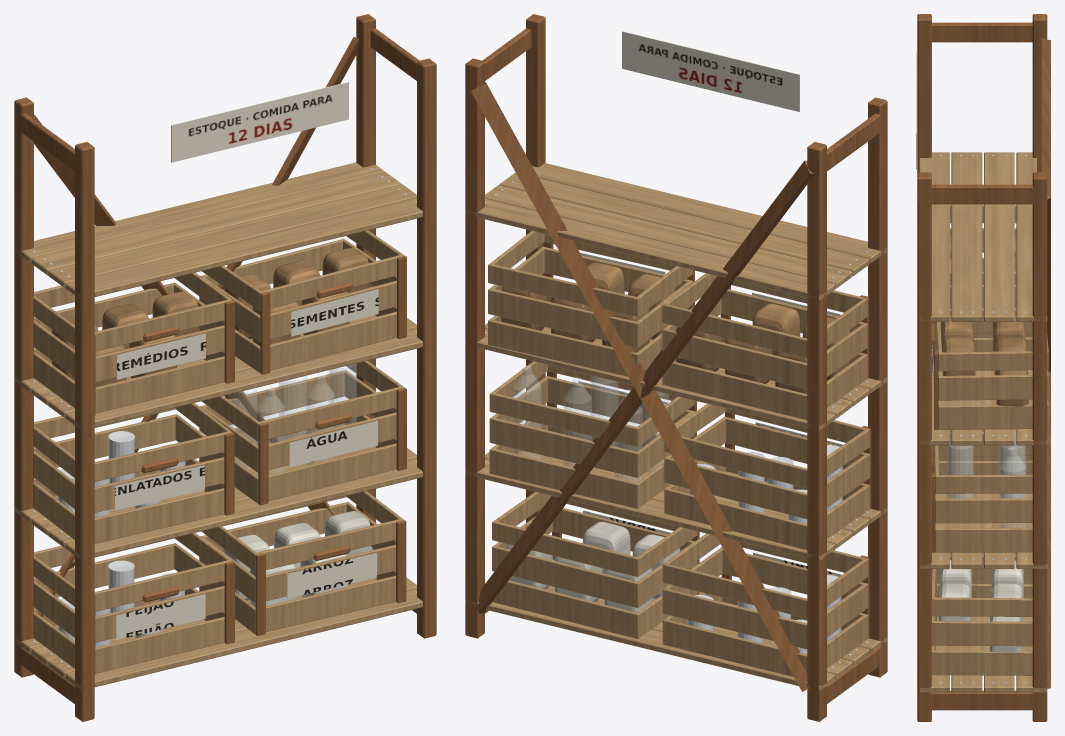
File: despensa.glb
The picture shows the model from 3 angles, left to right: view 1: azimuth 30°, elevation 25°; view 2: azimuth 150°, elevation 25°; view 3: azimuth 270°, elevation 25°; orthographic projection. The views are drawn at different scales.
Visible parts, largest first — view 1: despensa_madeira_crua, despensa_madeira, despensa_placa_estoque, despensa_papelao, despensa_pet, despensa_colchao, despensa_lata, despensa_etiq_desp_0, despensa_etiq_desp_1, despensa_etiq_desp_2, despensa_etiq_desp_4, despensa_etiq_desp_3 (+1 smaller); view 2: despensa_madeira_crua, despensa_madeira, despensa_placa_estoque, despensa_papelao, despensa_pet, despensa_colchao, despensa_lata; view 3: despensa_madeira_crua, despensa_madeira, despensa_papelao, despensa_colchao, despensa_pet.
Boxes of the visible parts, x1,y1,x2,y2 form: despensa_madeira_crua: (14, 162, 422, 689); despensa_madeira: (14, 14, 436, 721); despensa_placa_estoque: (171, 82, 348, 162); despensa_papelao: (52, 247, 370, 387); despensa_pet: (229, 363, 356, 475); despensa_colchao: (223, 511, 372, 607); despensa_lata: (57, 431, 185, 647); despensa_etiq_desp_0: (116, 594, 205, 639); despensa_etiq_desp_1: (287, 553, 376, 598); despensa_etiq_desp_2: (115, 465, 204, 510); despensa_etiq_desp_4: (117, 333, 205, 379); despensa_etiq_desp_3: (289, 420, 377, 467); despensa_madeira_crua: (465, 163, 886, 690); despensa_madeira: (465, 14, 887, 721); despensa_placa_estoque: (622, 31, 799, 111); despensa_papelao: (501, 262, 850, 393); despensa_pet: (513, 365, 668, 482); despensa_colchao: (506, 522, 679, 612); despensa_lata: (687, 445, 842, 654); despensa_madeira_crua: (919, 152, 1048, 692); despensa_madeira: (917, 14, 1050, 721); despensa_papelao: (941, 234, 1028, 406); despensa_colchao: (938, 560, 1023, 652); despensa_pet: (946, 429, 1025, 527).
Size of the model in its own units: 1.2 by 1.86 by 0.4154.
Materials: 14 (11 with a texture image).
